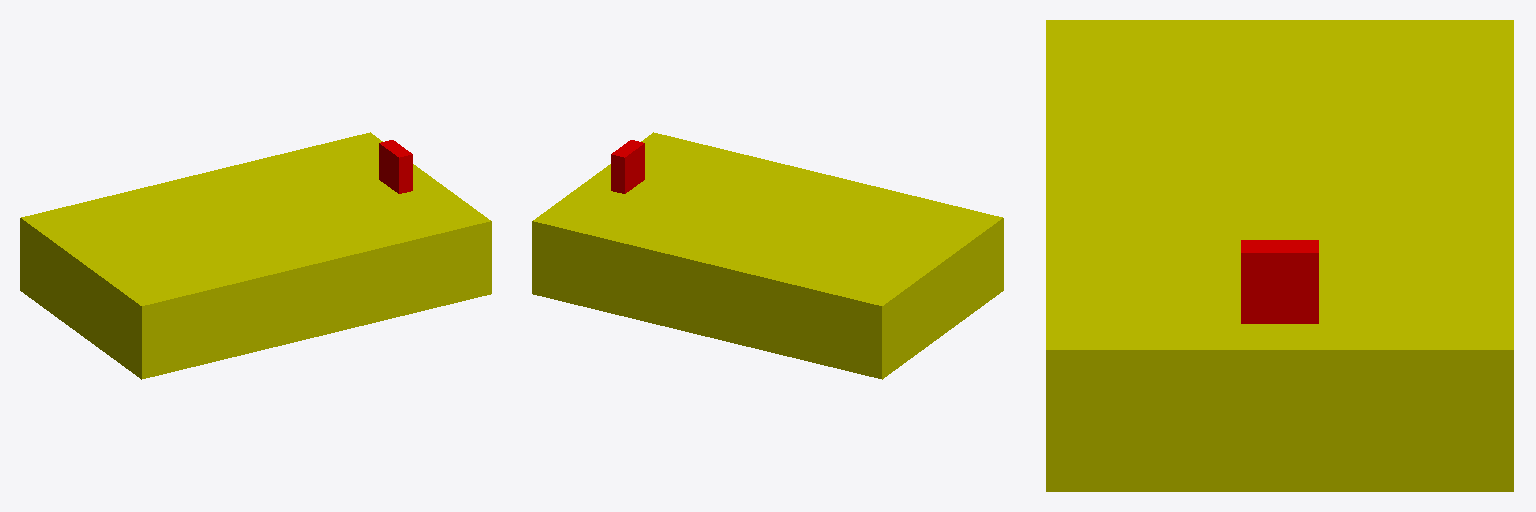
URDF robot description (demo03_joint):
<!-- 
需求：
    创建机器人模型，底盘为长方体，在长方体的前面添加一摄像头，摄像头可以沿着Z轴360度旋转。

实现：1.创建底盘link
     2.创建摄像头link
     3.通过joint关联底盘与摄像头
-->

<robot name="demo03_joint">
    <!-- 抽取颜色 -->
    <material name="yellow">
        <color rgba="0.8 0.8 0.0 0.5"/>
    </material>
    <material name="red">
        <color rgba="0.9 0.0 0.0 0.5"/>
    </material>
    <!-- 1.创建底盘link -->
    <link name="base_link">
        <visual>
            <geometry>
                <box size="0.5 0.3 0.1"/>
            </geometry>
            <material name="yellow"/>
        </visual>
    </link>
    <!-- 2.创建摄像头link -->
    <link name="camera">
        <visual>
            <geometry>
                <box size="0.02 0.05 0.05"/>
            </geometry>
            <material name="red"/>
        </visual>
    </link>
    <!-- 3.通过joint关联底盘与摄像头 -->
    <joint name="camera2baselink" type="continuous">
        <parent link="base_link"/>
        <child link="camera"/>
        <!-- 设置平移量和旋转度 -->
        <origin xyz="0.2 0.0 0.075"/>
        <!-- 沿哪个坐标轴旋转 --> 
        <axis xyz="0 0 1"/>  
    </joint>
</robot>

--- What the picture shows (computed from the rendered views, not written in the file) ---
The picture shows the robot from 3 angles, left to right: view 1: azimuth 30°, elevation 25°; view 2: azimuth 150°, elevation 25°; view 3: azimuth 270°, elevation 25°; orthographic projection.
Robot: demo03_joint — 2 links, 1 joints (1 continuous); root link base_link; default pose: every joint at zero.
Visible links, largest first — view 1: base_link, camera; view 2: base_link, camera; view 3: base_link, camera.
Boxes of the visible links, x1,y1,x2,y2 form: base_link: [20, 132, 491, 379]; camera: [379, 140, 412, 193]; base_link: [532, 132, 1003, 379]; camera: [611, 140, 644, 193]; base_link: [1046, 20, 1513, 491]; camera: [1241, 240, 1318, 323].
Size in the robot's own frame: 0.5 by 0.3 by 0.15 metres.
Geometry: primitives only (box / cylinder / sphere), no mesh files.
